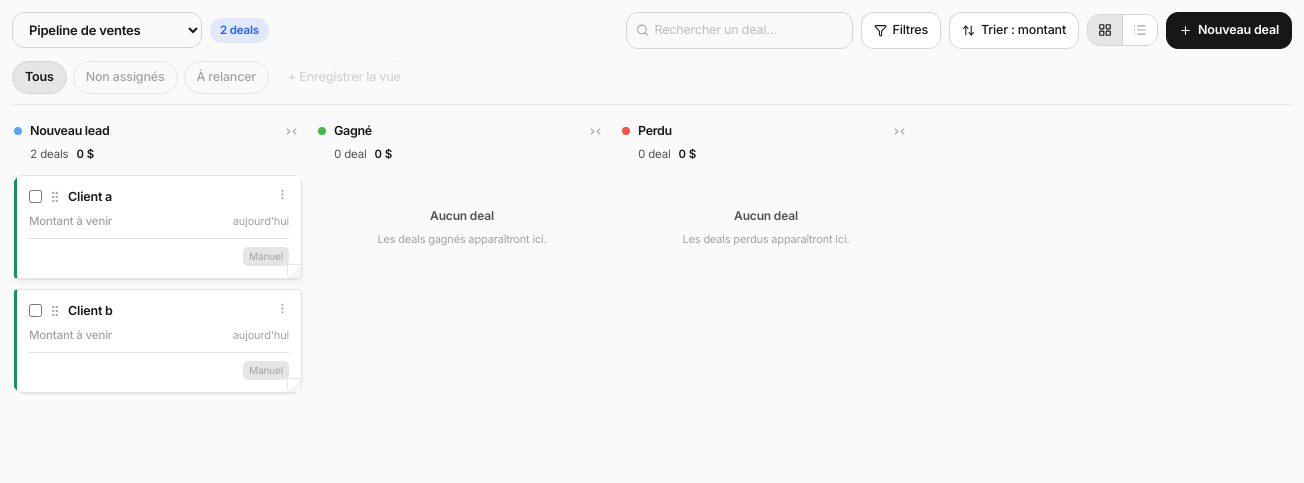
Test: board — actions en lot › la barre d'actions n'apparaît que quand un deal est coché
The image size is (1304, 483).
Check: the text "sélectionné" is not shown
Step 1. Click the checkbox named "Sélectionner Client a" → point(36, 196), box [29, 190, 42, 203]
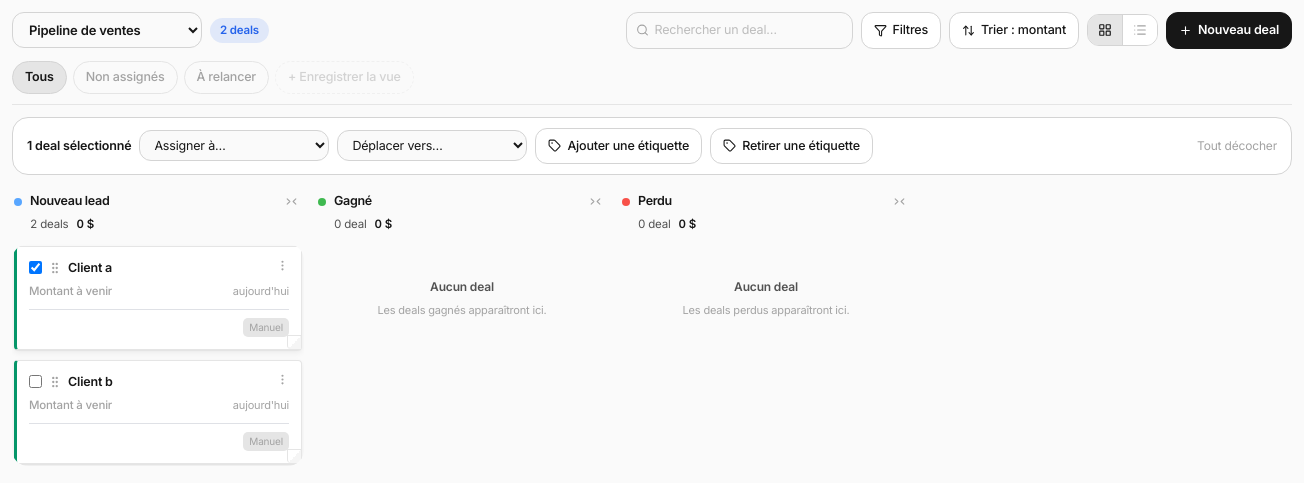
Check: the text "1 deal sélectionné" is shown, box [27, 136, 131, 155]
Step 2. Click the checkbox named "Sélectionner Client b" → point(36, 381), box [29, 374, 42, 388]
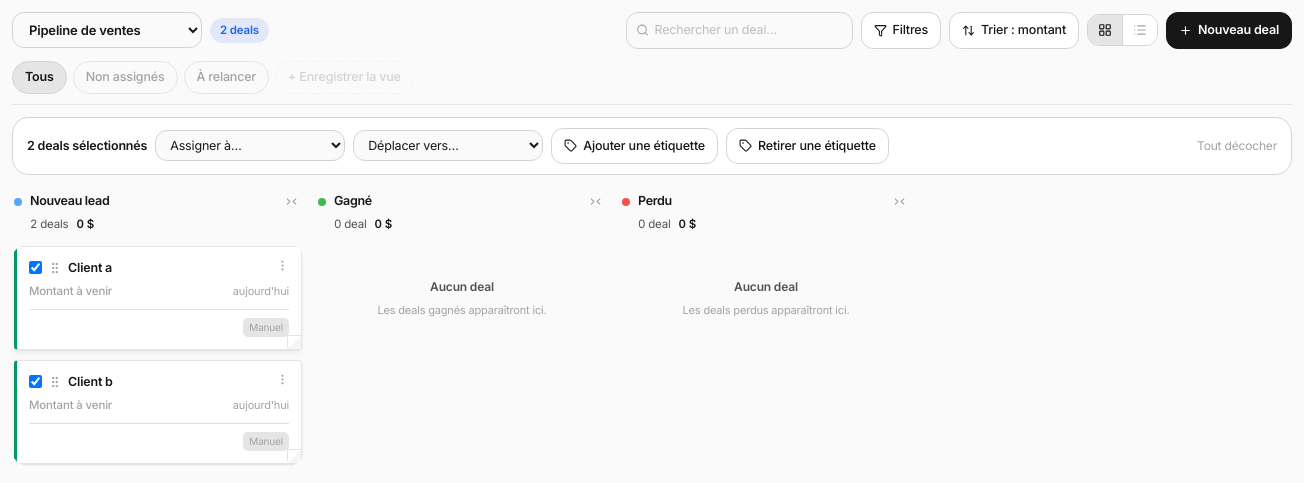
Check: the text "2 deals sélectionnés" is shown, box [27, 136, 147, 155]
